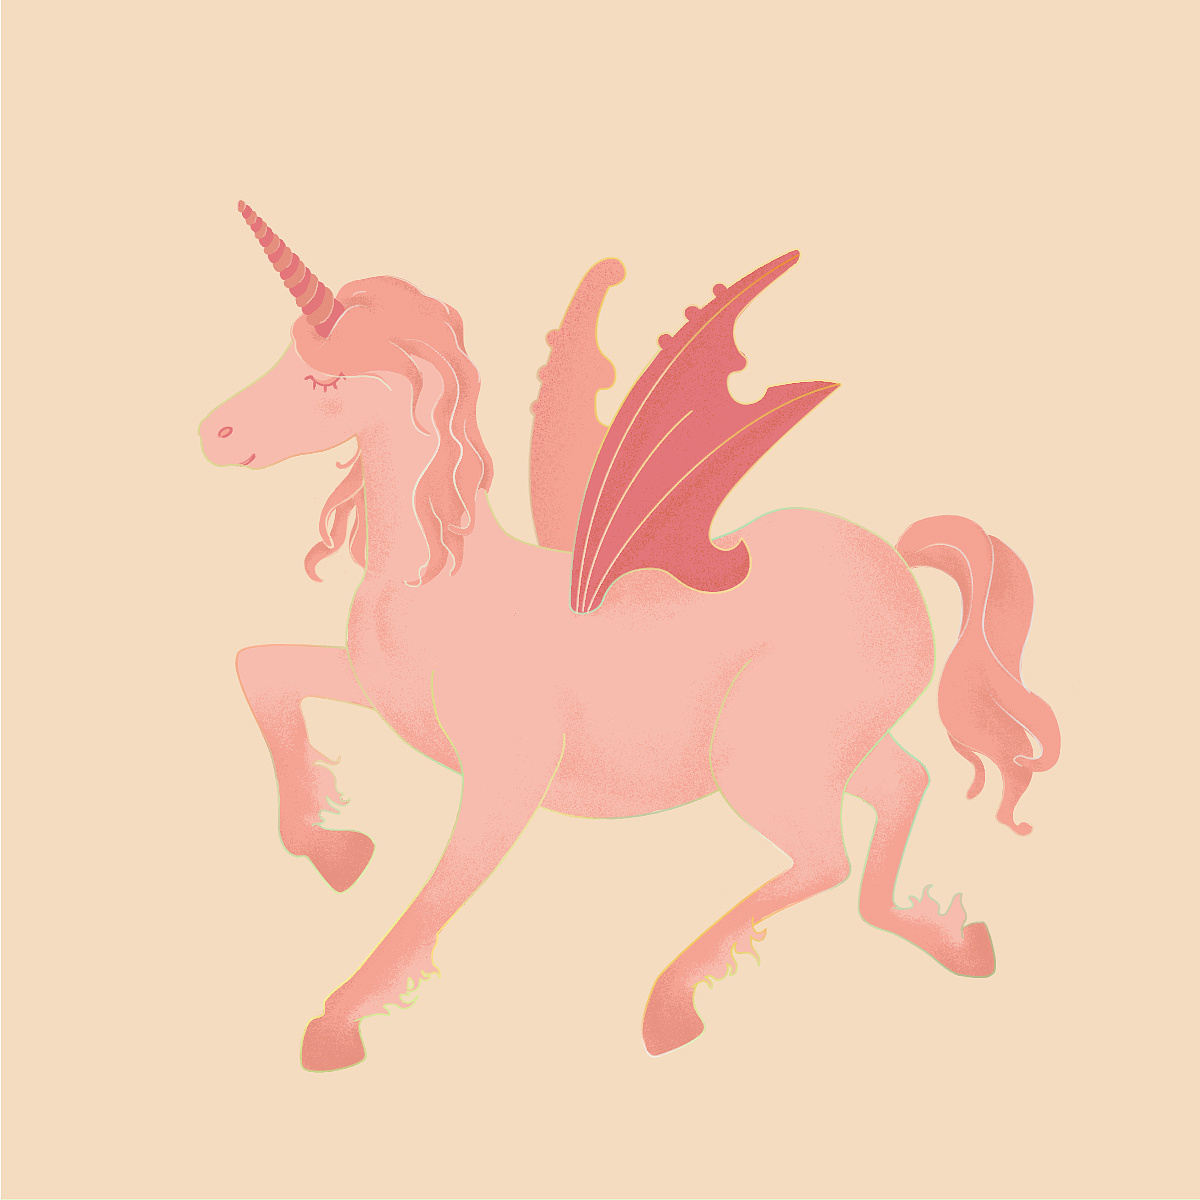background: (176, 180, 1058, 1077)
